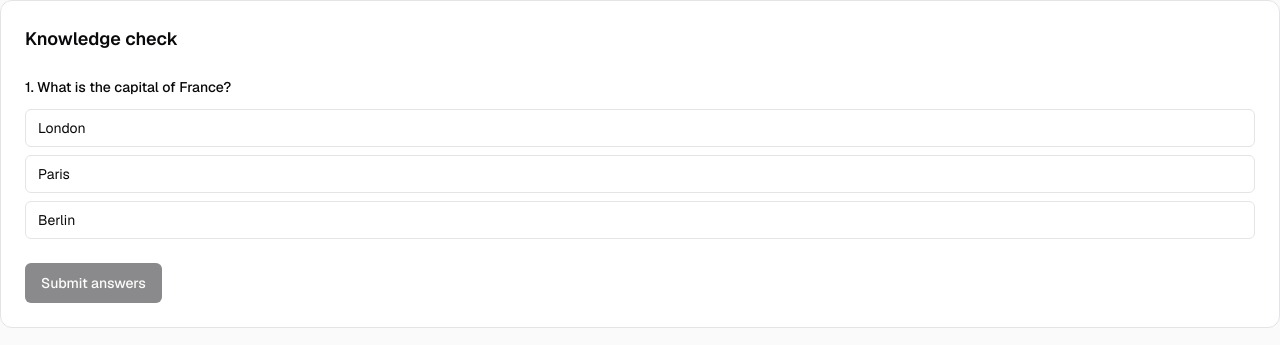
Test case: QuizPanel › submit button is enabled after selecting an option
Click the radio button labelled "Paris".
click(54, 174)  # box top-left (25, 155), bottom-right (1255, 193)
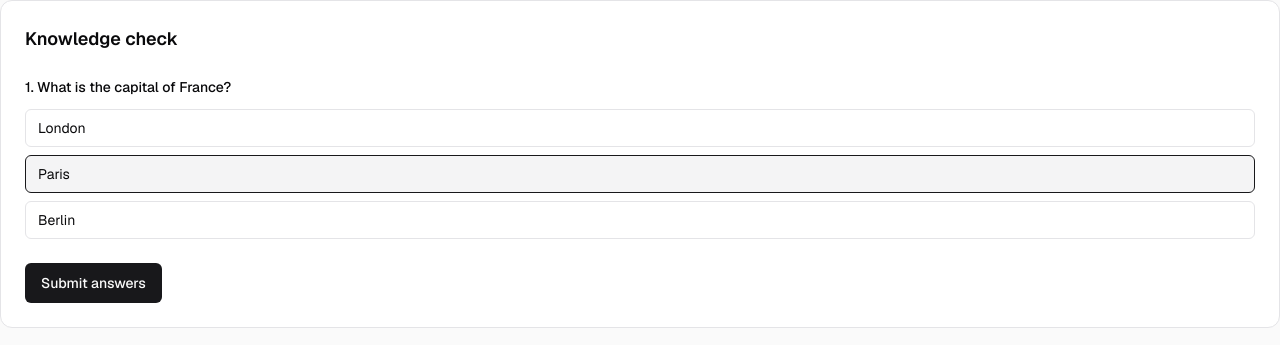
Expected: the button "Submit answers" is enabled, top-left (25, 263), bottom-right (162, 303)
